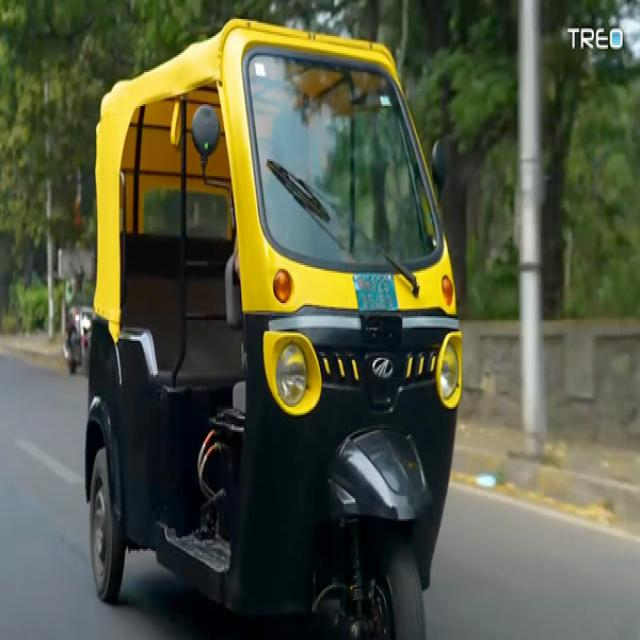autorickshaw: (83, 19, 466, 640)
